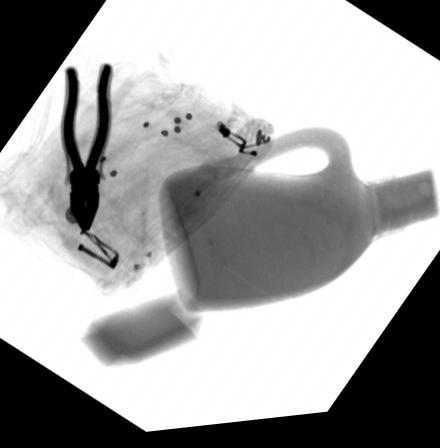Pliers: (58, 63, 112, 233)
